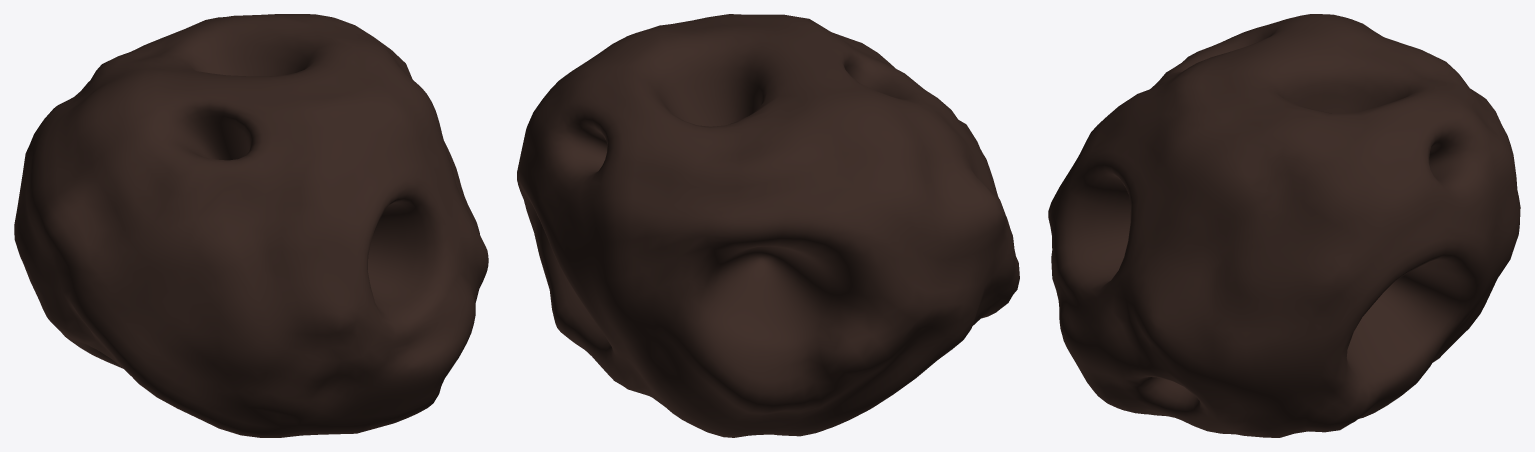
Rendered from Meteorito trampa.fbx.
3 renders of one model, left to right at view 1: azimuth 30°, elevation 25°; view 2: azimuth 150°, elevation 25°; view 3: azimuth 270°, elevation 25°, orthographic. The views are drawn at different scales.
Visible parts, largest first — view 1: mETEORITO; view 2: mETEORITO; view 3: mETEORITO.
Boxes of the visible parts, left/top/right/bottom form: mETEORITO: left=14, top=14, right=488, bottom=437; mETEORITO: left=517, top=14, right=1019, bottom=437; mETEORITO: left=1048, top=14, right=1520, bottom=437.
Size of the model in its own units: 7.69 by 5.82 by 7.45.
